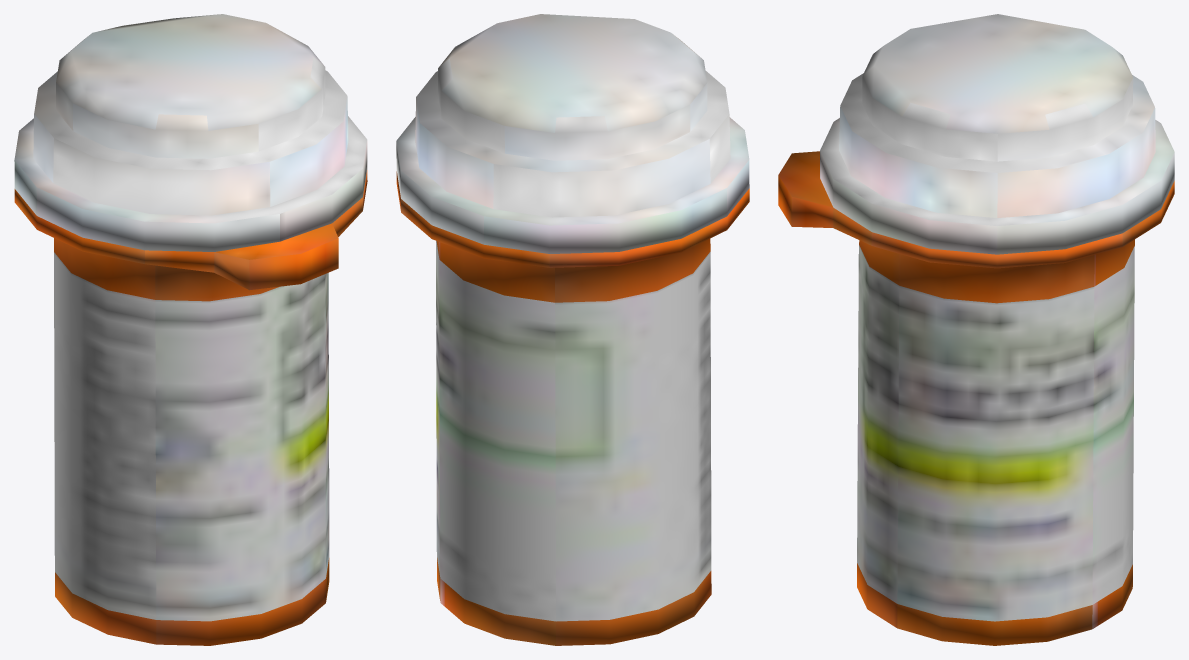
File: pills.glb
The picture shows the model from 3 angles, left to right: view 1: azimuth 30°, elevation 25°; view 2: azimuth 150°, elevation 25°; view 3: azimuth 270°, elevation 25°; orthographic projection.
Parts seen in each view (by area): view 1: Cylinder.003_Material.023_0, Cylinder.002_Material.023_0; view 2: Cylinder.003_Material.023_0, Cylinder.002_Material.023_0; view 3: Cylinder.003_Material.023_0, Cylinder.002_Material.023_0.
Part boxes in pixels (bbox=[...]): Cylinder.003_Material.023_0: bbox=[14, 170, 367, 645]; Cylinder.002_Material.023_0: bbox=[14, 14, 367, 251]; Cylinder.003_Material.023_0: bbox=[396, 171, 749, 645]; Cylinder.002_Material.023_0: bbox=[396, 14, 749, 253]; Cylinder.003_Material.023_0: bbox=[778, 151, 1174, 645]; Cylinder.002_Material.023_0: bbox=[820, 14, 1174, 254].
Bounding box in the file's own units: 0.0984 × 0.16 × 0.11.
Materials: 1 (1 with a texture image).
